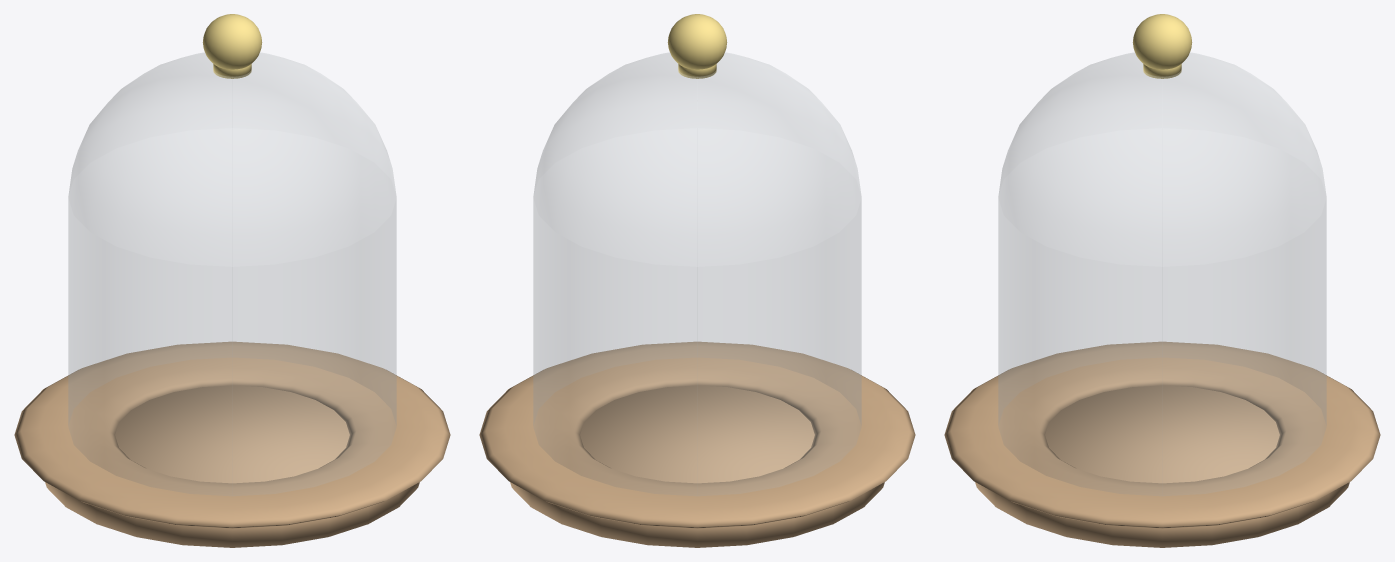
Rendered from cloche_dome.glb.
3 views of the same model, side by side, from view 1: azimuth 30°, elevation 25°; view 2: azimuth 150°, elevation 25°; view 3: azimuth 270°, elevation 25° (orthographic).
Parts seen in each view (by area): view 1: Glass_Dome, Cloche_Wood_Base, Brass_Finial; view 2: Glass_Dome, Cloche_Wood_Base, Brass_Finial; view 3: Glass_Dome, Cloche_Wood_Base, Brass_Finial.
Boxes of the visible parts, left/top/right/bottom form: Glass_Dome: left=68, top=52, right=396, bottom=495; Cloche_Wood_Base: left=14, top=341, right=450, bottom=547; Brass_Finial: left=202, top=14, right=262, bottom=78; Glass_Dome: left=533, top=52, right=861, bottom=495; Cloche_Wood_Base: left=479, top=341, right=915, bottom=547; Brass_Finial: left=667, top=14, right=727, bottom=78; Glass_Dome: left=998, top=52, right=1326, bottom=495; Cloche_Wood_Base: left=944, top=341, right=1380, bottom=547; Brass_Finial: left=1132, top=14, right=1192, bottom=78.
Bounding box in the file's own units: 2.5 × 2.84 × 2.5.
